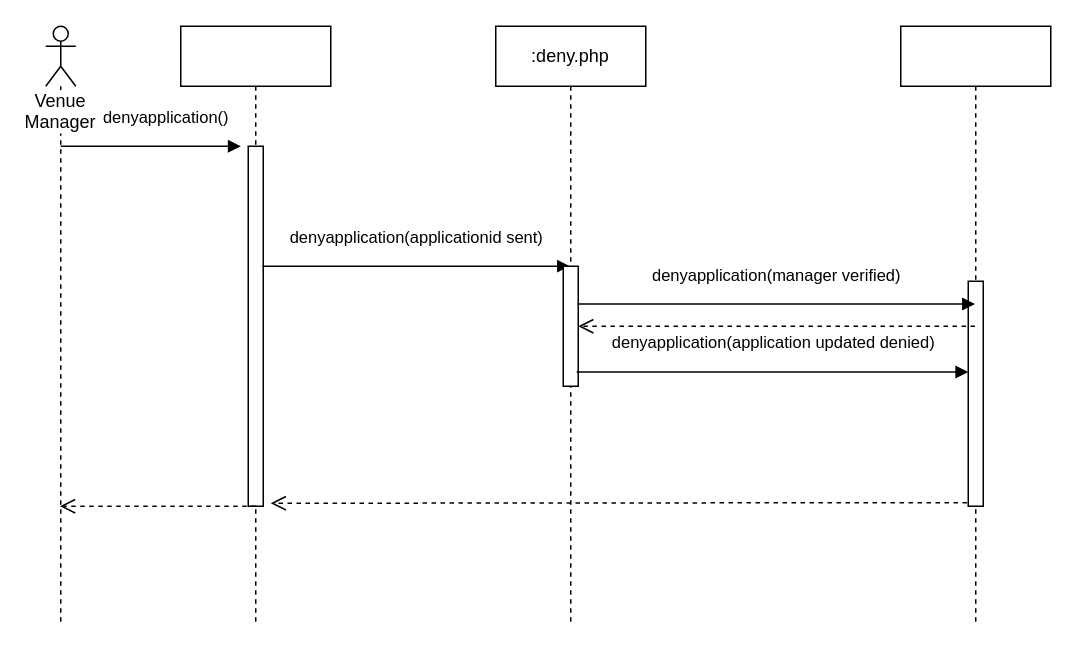
The diagram is 1077 pixels wide and 653 high, and some of its shapes have lost their labels. Here are the shapes that lost their labels. From the top down, the box of each, then its label:
(179, 25, 331, 626): :inbox.php
(899, 25, 1051, 626): :database
